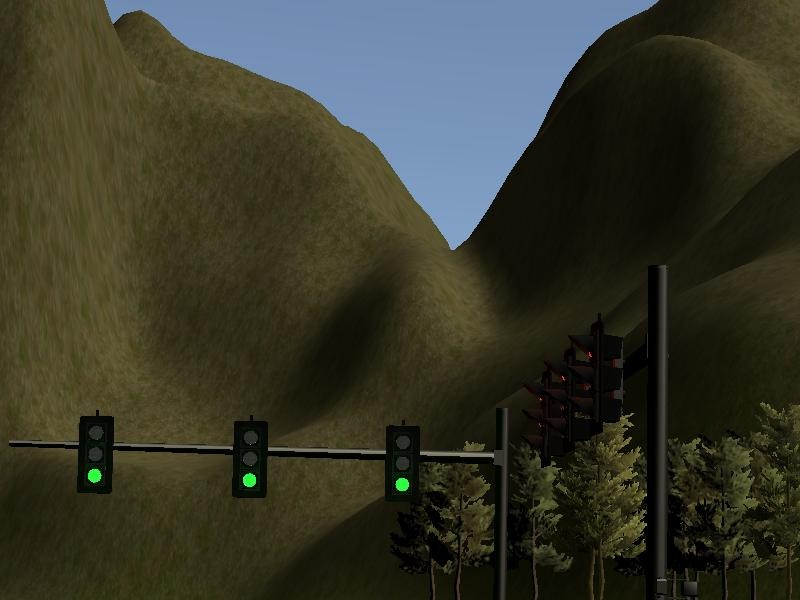green: (78, 415, 114, 493), (384, 425, 420, 503), (232, 421, 268, 499)
